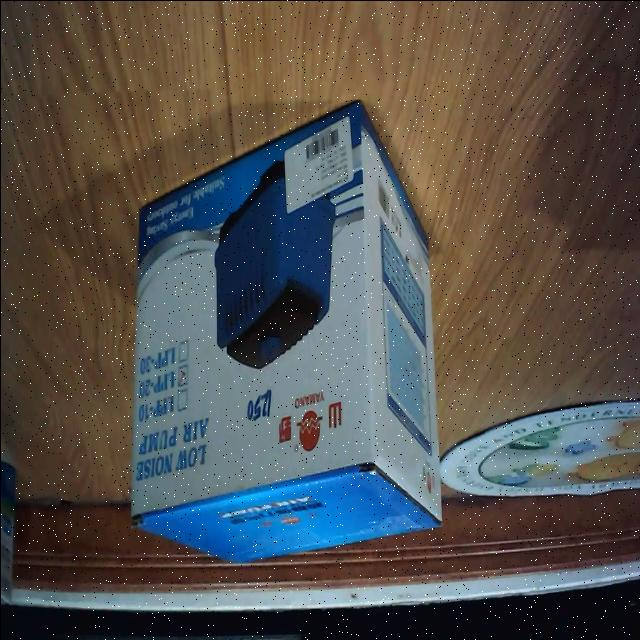YAMANO_LPP_20: (122, 104, 444, 577)
